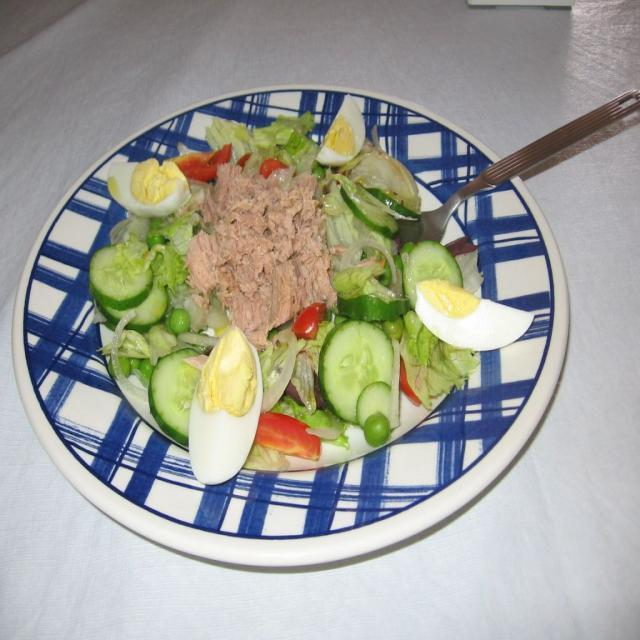Zucchini: (316, 309, 407, 434), (142, 349, 208, 445), (78, 238, 154, 312), (403, 234, 463, 316), (334, 288, 415, 332)
